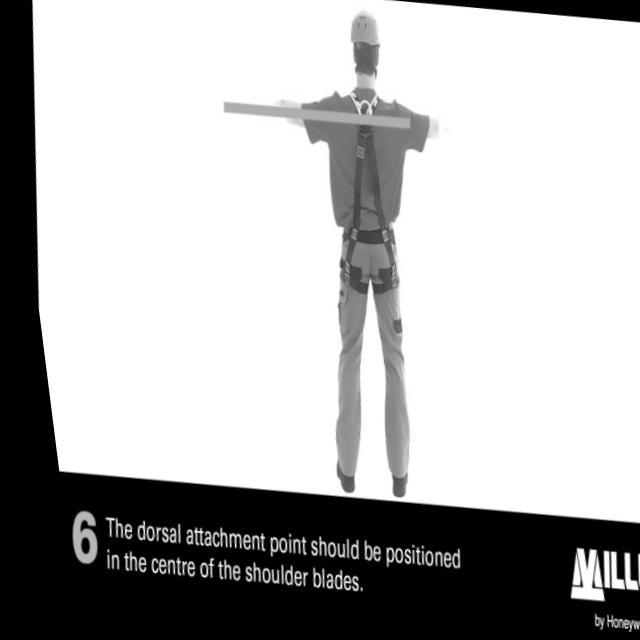belt: (307, 84, 413, 298)
